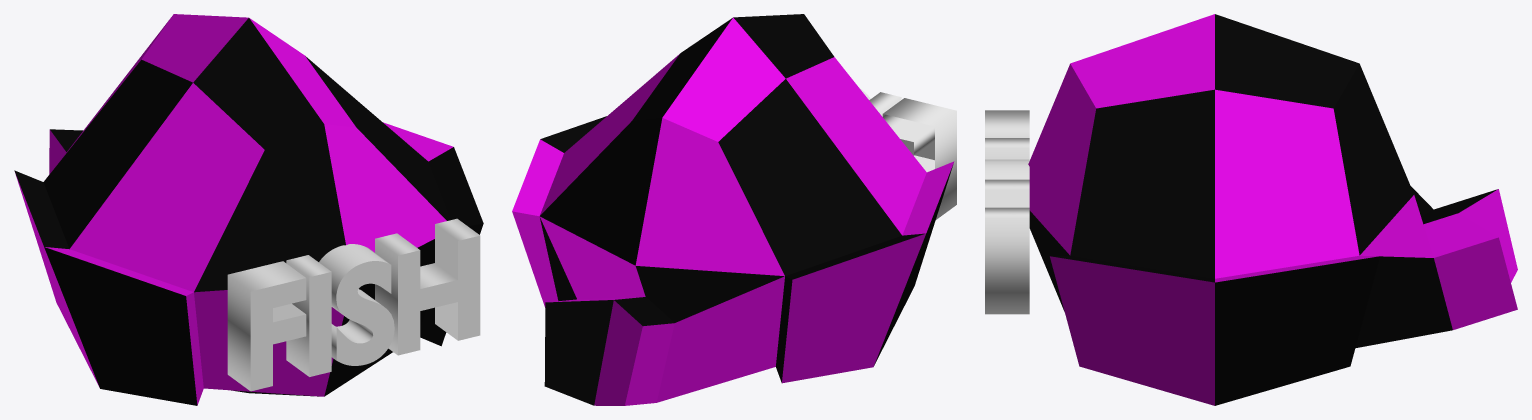
Rendered from errorfish.fbx.
3 views of the same model, side by side, from view 1: azimuth 30°, elevation 25°; view 2: azimuth 150°, elevation 25°; view 3: azimuth 270°, elevation 25° (orthographic). The views are drawn at different scales.
Parts seen in each view (by area): view 1: Cube.005, Text; view 2: Cube.005, Text; view 3: Cube.005, Text.
Boxes of the visible parts, x1,y1,x2,y2 form: Cube.005: (14,14,483,405); Text: (227,218,480,391); Cube.005: (512,14,954,405); Text: (859,88,956,219); Cube.005: (1028,14,1517,405); Text: (985,110,1029,314).
Bounding box in the file's own units: 249 × 218 × 292.
